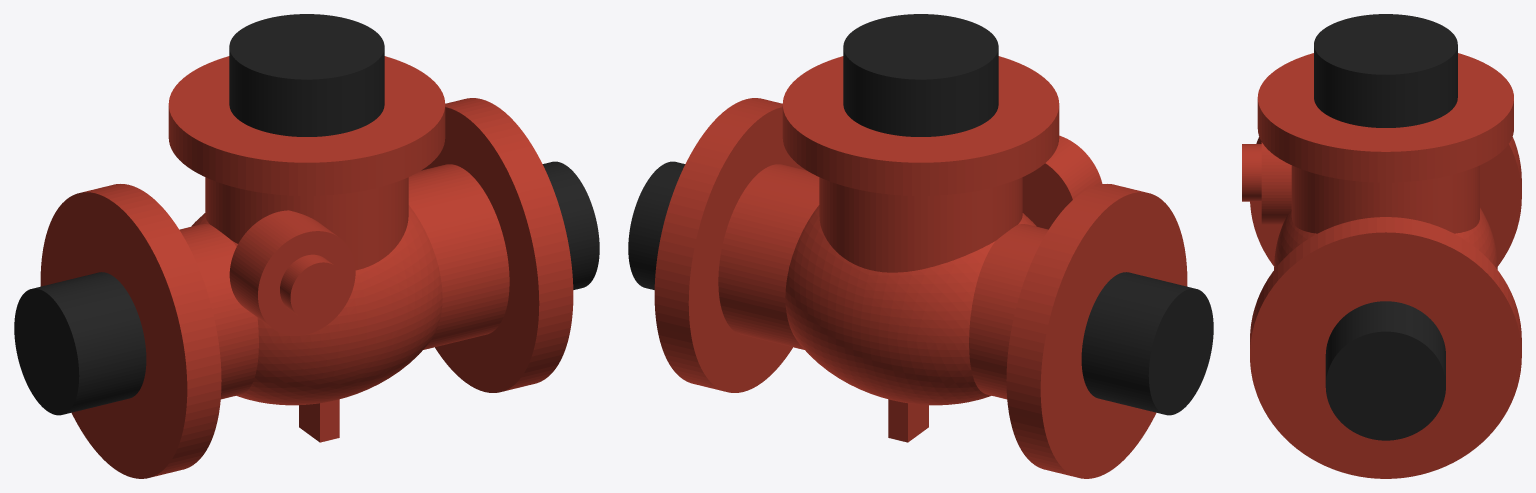
File: valvula.glb
3 renders of one model, left to right at view 1: azimuth 30°, elevation 25°; view 2: azimuth 150°, elevation 25°; view 3: azimuth 270°, elevation 25°, orthographic. The views are drawn at different scales.
Parts seen in each view (by area): view 1: n0, n1; view 2: n0, n1; view 3: n0, n1.
Part boxes in pixels (x1=…): n0: x1=40, y1=56, x2=573, y2=478; n1: x1=14, y1=14, x2=599, y2=415; n0: x1=654, y1=56, x2=1187, y2=478; n1: x1=628, y1=14, x2=1213, y2=415; n0: x1=1242, y1=53, x2=1521, y2=478; n1: x1=1314, y1=14, x2=1457, y2=440.
Bounding box in the file's own units: 426 × 304 × 214.
